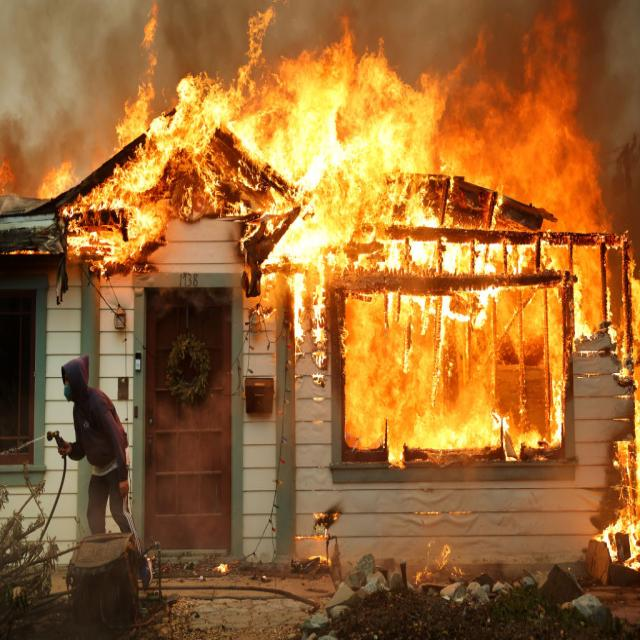fire: (63, 3, 605, 366), (117, 2, 157, 148), (37, 160, 77, 198), (0, 156, 14, 195), (215, 564, 228, 574)
